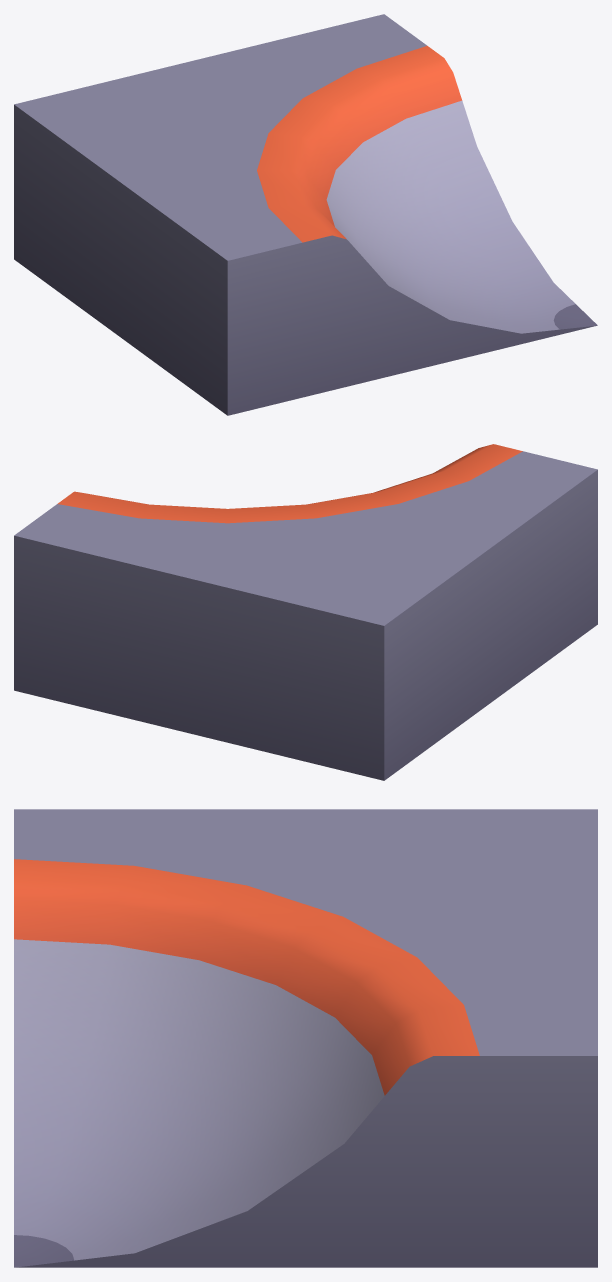
The model's file is bowl-corner-inner-low.fbx.
The picture shows the model from 3 angles, top to bottom: view 1: azimuth 30°, elevation 25°; view 2: azimuth 150°, elevation 25°; view 3: azimuth 270°, elevation 25°; orthographic projection. The views are drawn at different scales.
Visible parts, largest first — view 1: bowl-corner-inner-low; view 2: bowl-corner-inner-low; view 3: bowl-corner-inner-low.
Part boxes in pixels (<box>): bowl-corner-inner-low: <box>14,14,597,415</box>; bowl-corner-inner-low: <box>14,444,597,780</box>; bowl-corner-inner-low: <box>14,809,597,1267</box>.
Size of the model in its own units: 100 by 40 by 100.
Materials: 1 (1 with a texture image).
